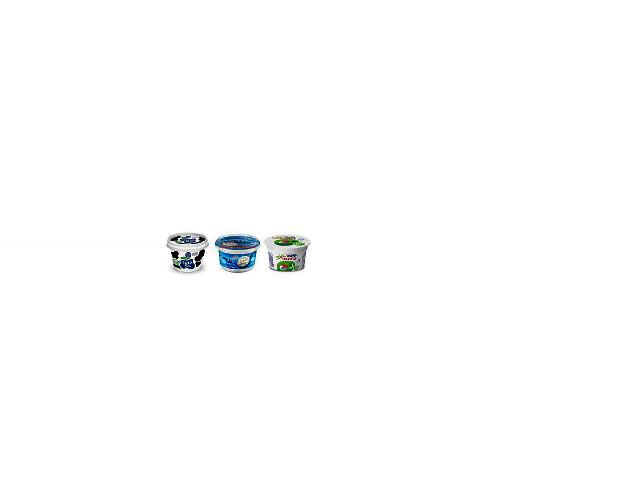cotage: (262, 232, 312, 275)
